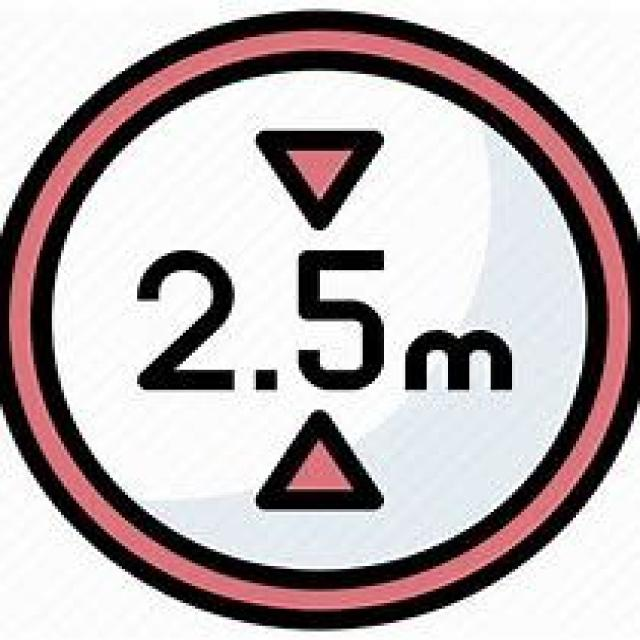height_limit: (0, 8, 637, 626)
